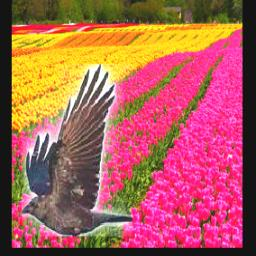Crow: (23, 64, 133, 236)
